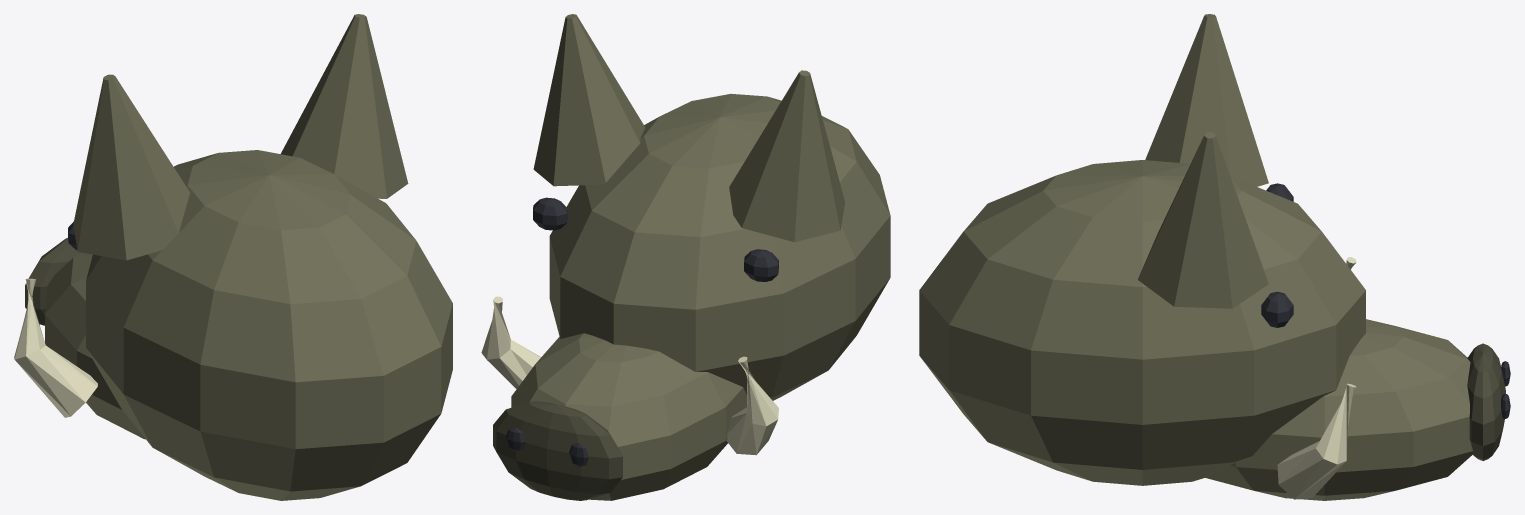
Rendered from chimera_b_head.obj.
The picture shows the model from 3 angles, left to right: view 1: azimuth 30°, elevation 25°; view 2: azimuth 150°, elevation 25°; view 3: azimuth 270°, elevation 25°; orthographic projection. The views are drawn at different scales.
Visible parts, largest first — view 1: chimera_b_head; view 2: chimera_b_head; view 3: chimera_b_head.
Part boxes in pixels (box(x1,y1,x2,y2)): chimera_b_head: box(14, 14, 452, 500); chimera_b_head: box(481, 14, 890, 500); chimera_b_head: box(919, 14, 1510, 500).
Size of the model in its own units: 0.5319 by 0.6765 by 0.8775.
